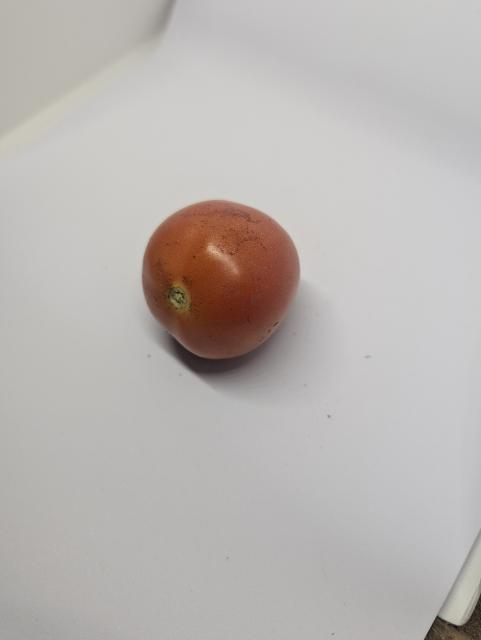red: (139, 194, 307, 375)
